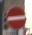No entry: (6, 5, 27, 30)
